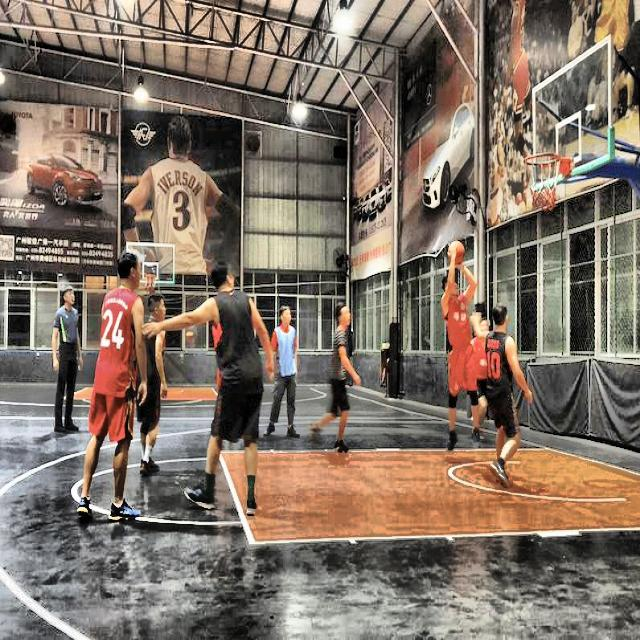rim: (525, 155, 561, 211)
